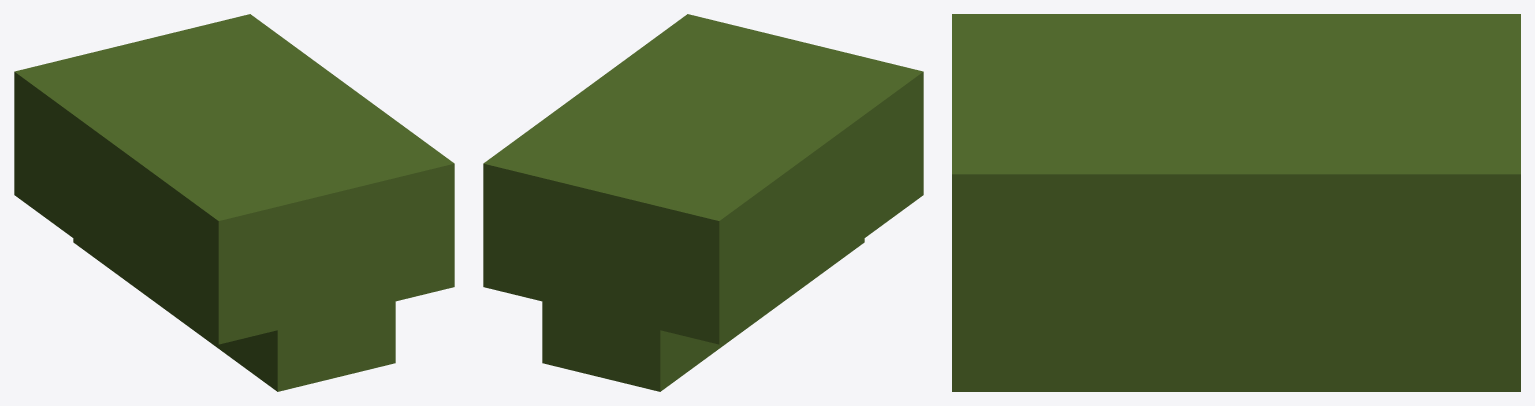
Rendered from Char18-Pelvis.gltf.
The picture shows the model from 3 angles, left to right: view 1: azimuth 30°, elevation 25°; view 2: azimuth 150°, elevation 25°; view 3: azimuth 270°, elevation 25°; orthographic projection. The views are drawn at different scales.
Size of the model in its own units: 4 by 3 by 6.
